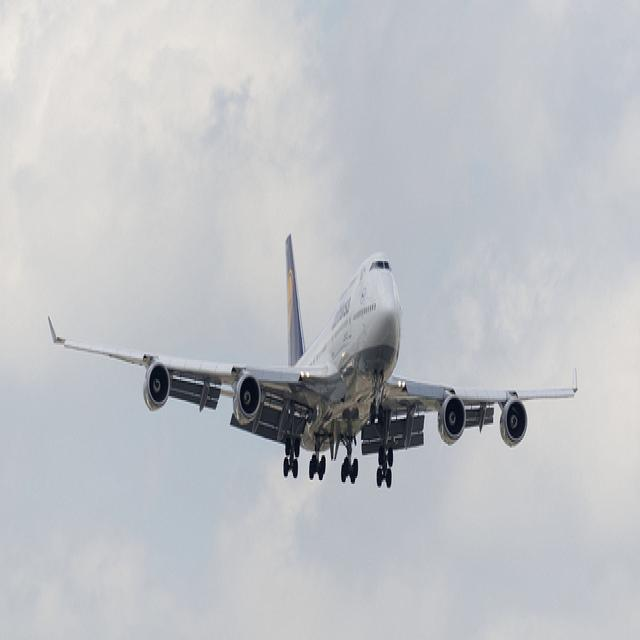airplane: (46, 231, 579, 491)
